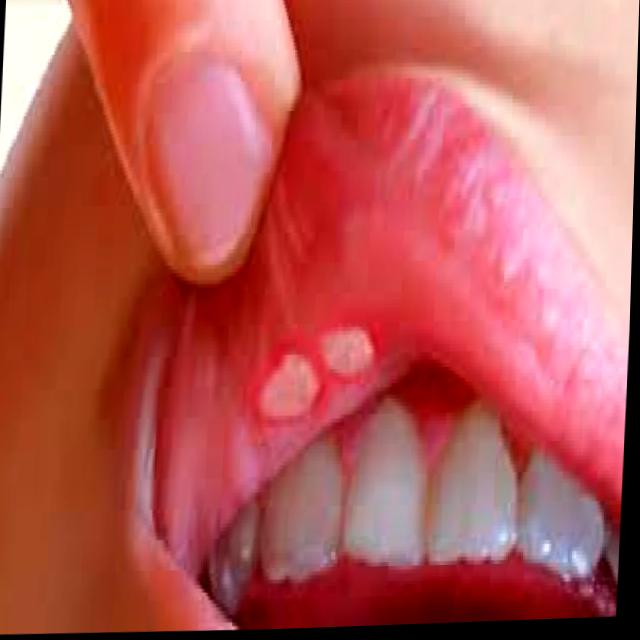ulcer: (259, 358, 315, 419), (319, 330, 370, 376)
